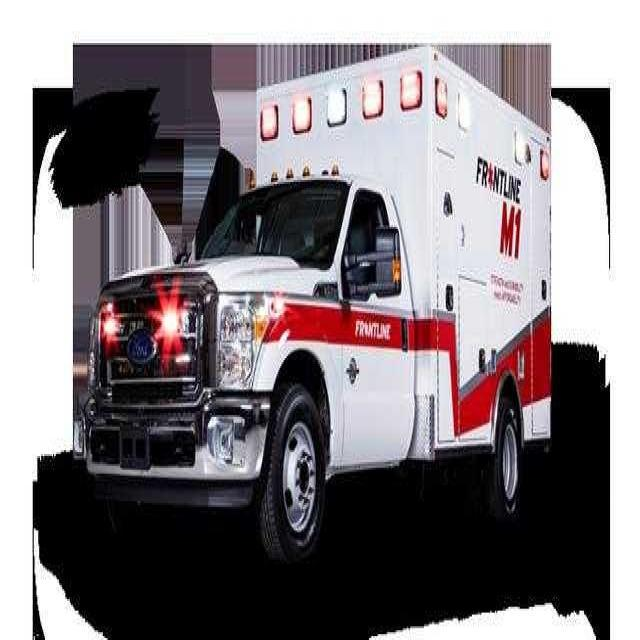emergency-vehicle: (78, 43, 549, 542)
